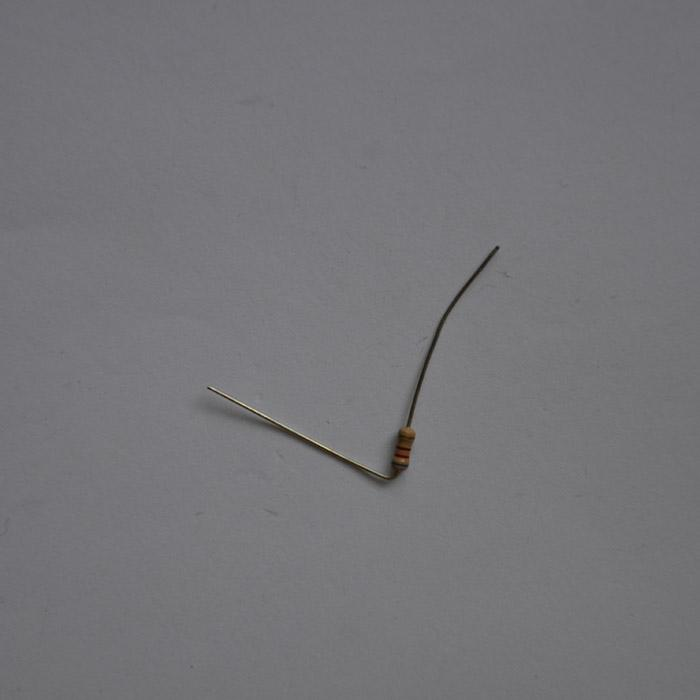resistor: (391, 424, 416, 469)
